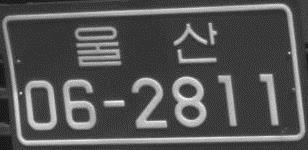-: (101, 97, 127, 110)
0: (23, 78, 58, 131)
1: (256, 71, 283, 129), (215, 71, 241, 128)
2: (129, 76, 167, 128)
6: (61, 77, 97, 131)
8: (171, 74, 208, 128)
울산_D: (74, 19, 219, 69)
